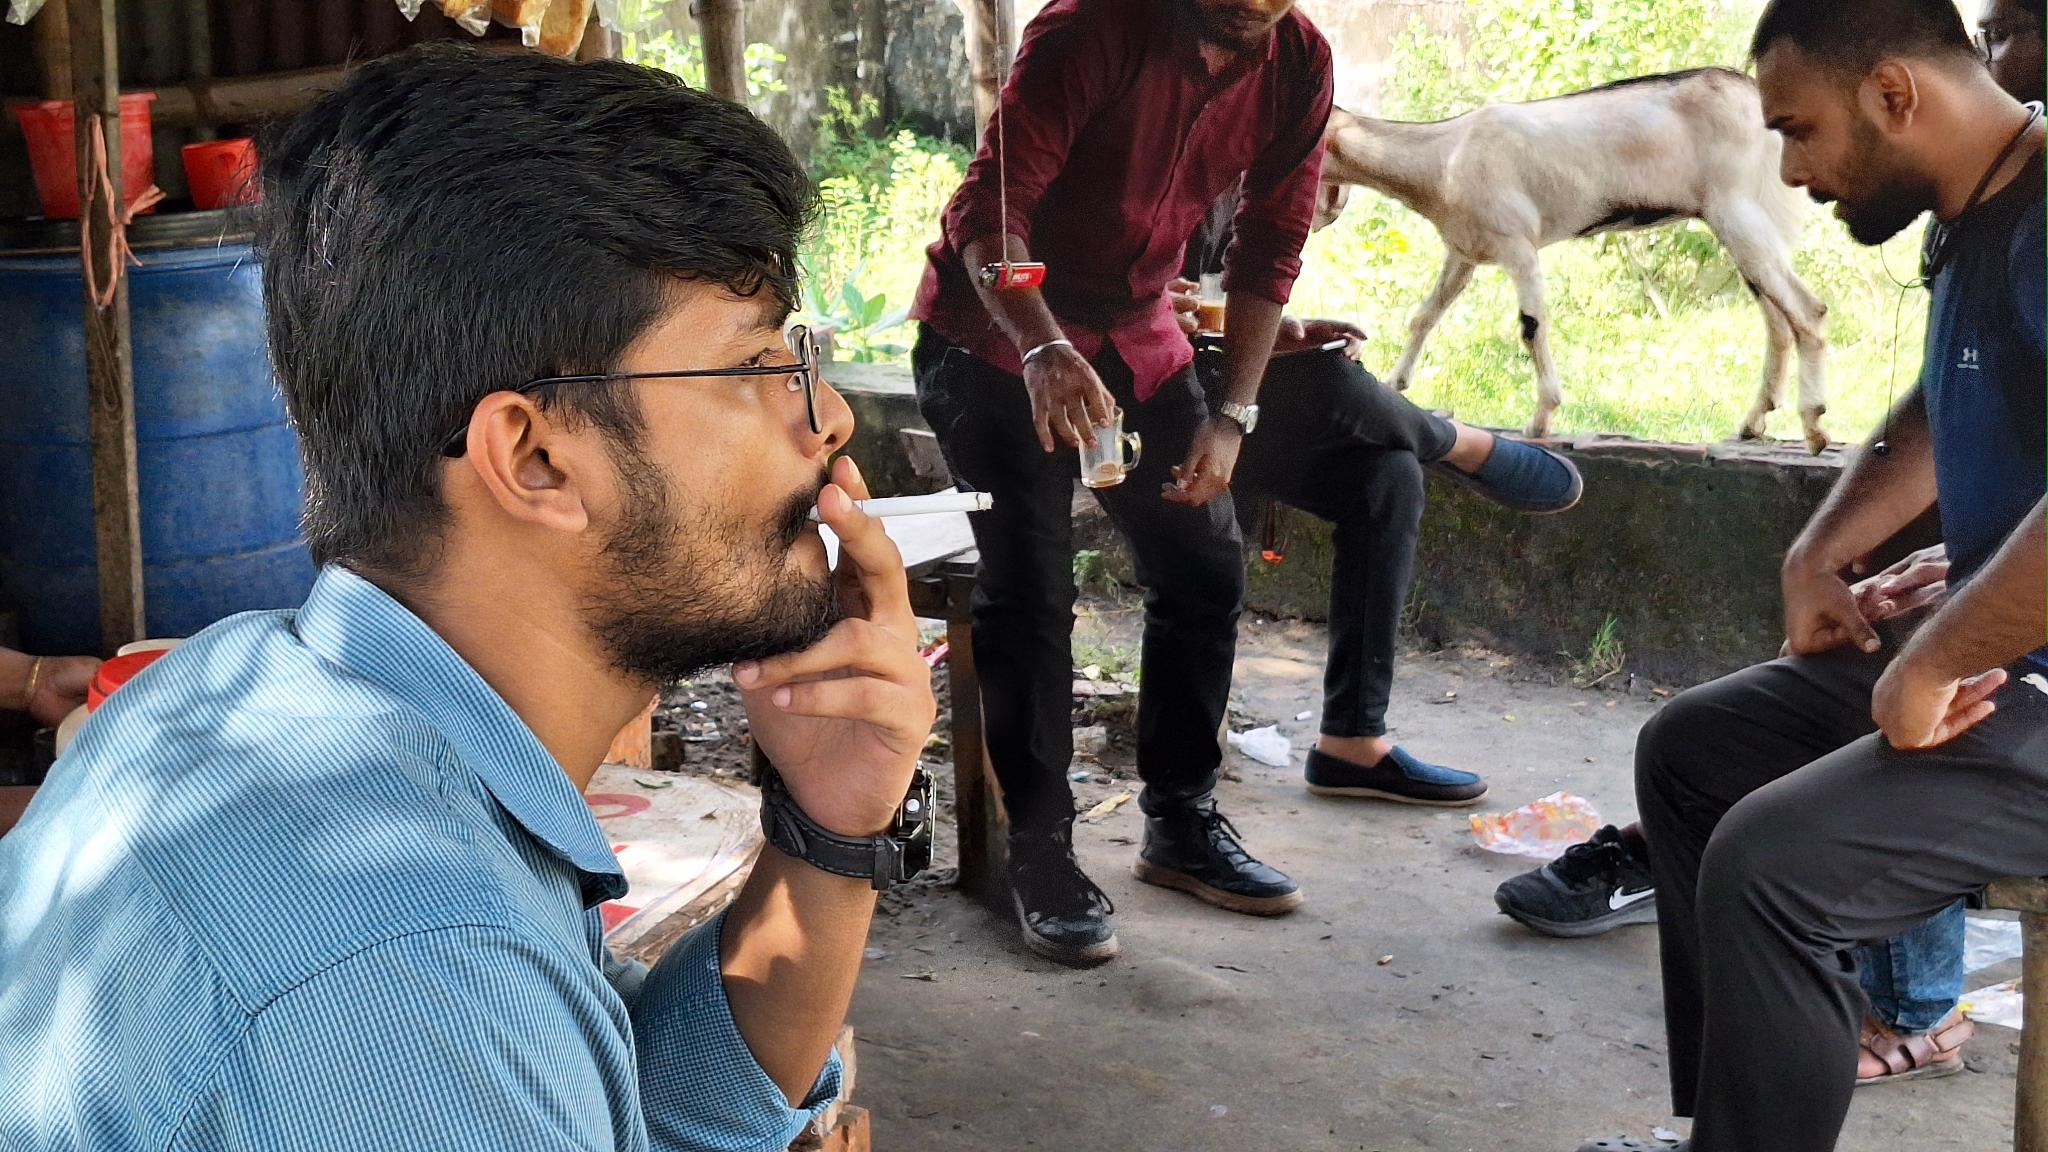cigarette: (806, 480, 1003, 530)
nonSmoker: (1627, 0, 2048, 1152), (911, 0, 1340, 979)
smoker: (0, 53, 935, 1152)
